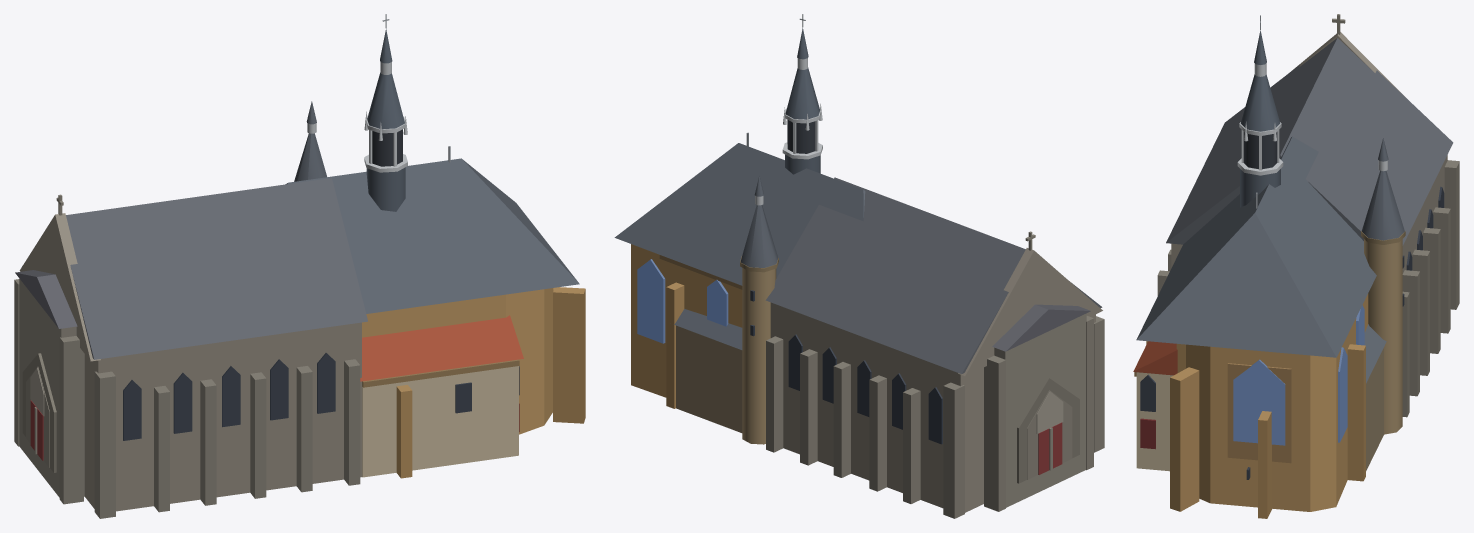
Rendered from la-sainte-chapelle.glb.
3 views of the same model, side by side, from view 1: azimuth 30°, elevation 25°; view 2: azimuth 150°, elevation 25°; view 3: azimuth 270°, elevation 25° (orthographic). The views are drawn at different scales.
Parts seen in each view (by area): view 1: Sainte-Chapelle de Vic-le-Comte (église Saint-Pierre); view 2: Sainte-Chapelle de Vic-le-Comte (église Saint-Pierre); view 3: Sainte-Chapelle de Vic-le-Comte (église Saint-Pierre).
Boxes of the visible parts, x1,y1,x2,y2 form: Sainte-Chapelle de Vic-le-Comte (église Saint-Pierre): [14, 14, 585, 518]; Sainte-Chapelle de Vic-le-Comte (église Saint-Pierre): [614, 14, 1104, 518]; Sainte-Chapelle de Vic-le-Comte (église Saint-Pierre): [1133, 14, 1459, 518].
Bounding box in the file's own units: 47.94 × 38.3 × 27.14.
